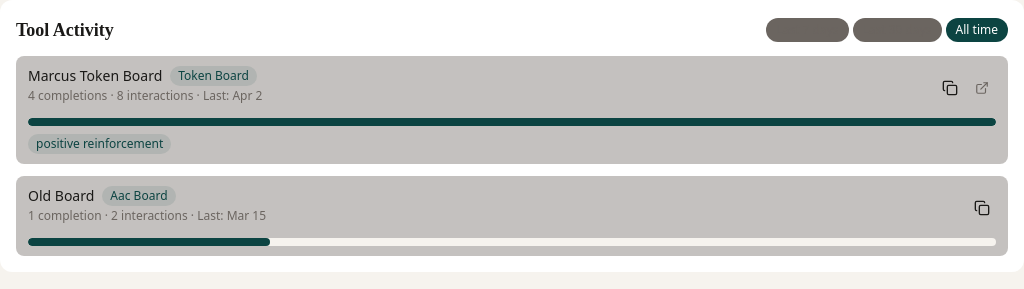
Test: ToolActivitySummary — time filter › hides old tool when 'Last 7 days' selected
Click the button "Last 7 days".
click(807, 30)  # box [766, 18, 848, 42]
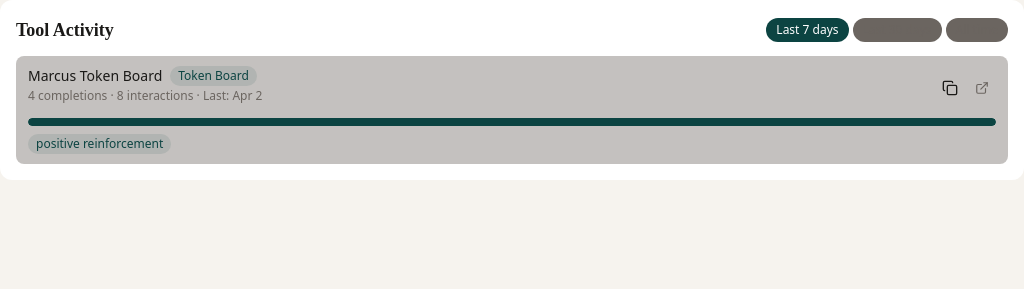
Expected: the text "Marcus Token Board" is shown, [28, 66, 162, 86]
Result: the text "Old Board" is gone
